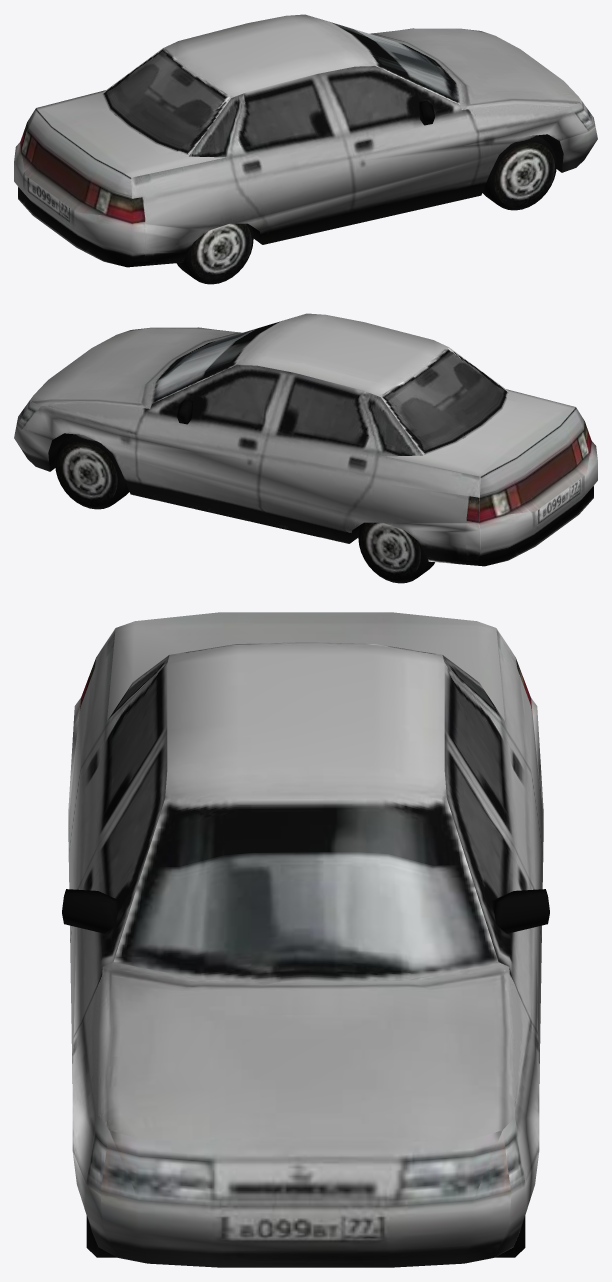
Rendered from ВАЗ 2110.glb.
3 renders of one model, top to bottom at view 1: azimuth 30°, elevation 25°; view 2: azimuth 150°, elevation 25°; view 3: azimuth 270°, elevation 25°, orthographic. The views are drawn at different scales.
Visible parts, largest first — view 1: Koozov, Koleso.000, Koleso.003; view 2: Koozov, Koleso.001, Koleso.002; view 3: Koozov.
Boxes of the visible parts, box(x1,y1,x2,y2) form: Koozov: box(14, 14, 597, 267); Koleso.000: box(482, 135, 556, 210); Koleso.003: box(177, 223, 253, 284); Koozov: box(14, 313, 597, 566); Koleso.001: box(55, 434, 129, 509); Koleso.002: box(358, 522, 434, 583); Koozov: box(62, 612, 549, 1267).
Size of the model in its own units: 1.07 by 0.3453 by 0.4434.
Materials: 2 (2 with a texture image).
